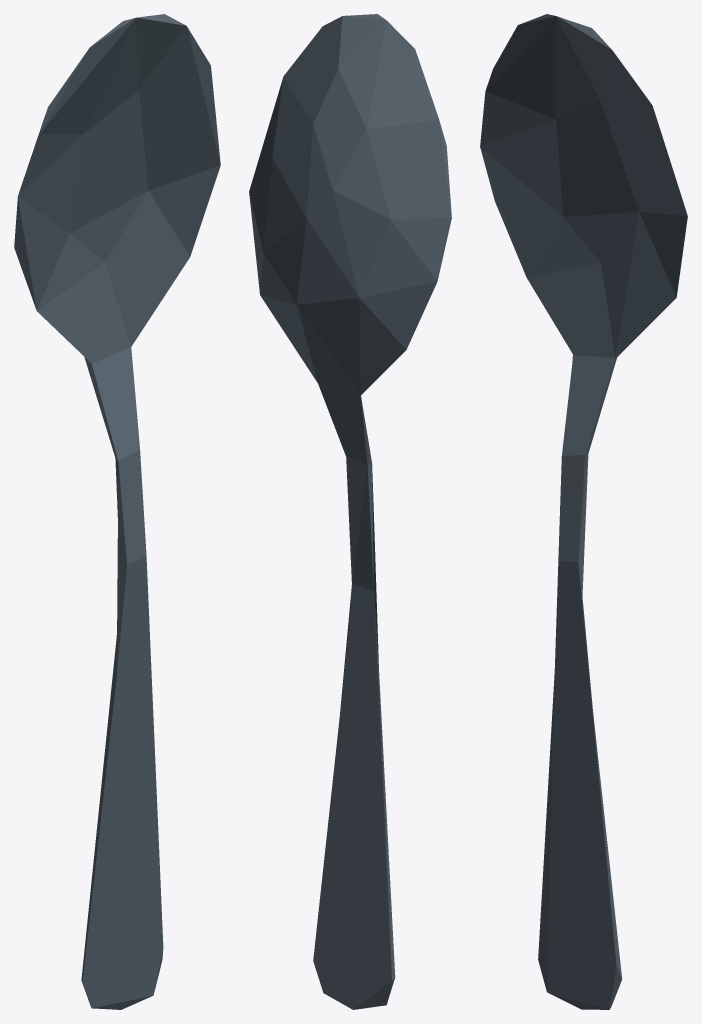
Rendered from Spoon01.fbx.
3 views of the same model, side by side, from view 1: azimuth 30°, elevation 25°; view 2: azimuth 150°, elevation 25°; view 3: azimuth 330°, elevation 25° (orthographic). The views are drawn at different scales.
Parts seen in each view (by area): view 1: Spoon01LowPoly; view 2: Spoon01LowPoly; view 3: Spoon01LowPoly.
Part boxes in pixels (box(x1,y1,x2,y2)): Spoon01LowPoly: box(14, 14, 220, 1009); Spoon01LowPoly: box(249, 14, 451, 1009); Spoon01LowPoly: box(480, 14, 687, 1009).
Bounding box in the file's own units: 4.49 × 21.04 × 1.93.
